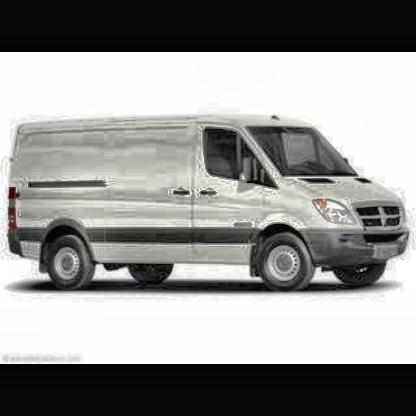Dodge Sprinter Cargo Van 2009: (13, 118, 412, 294)
